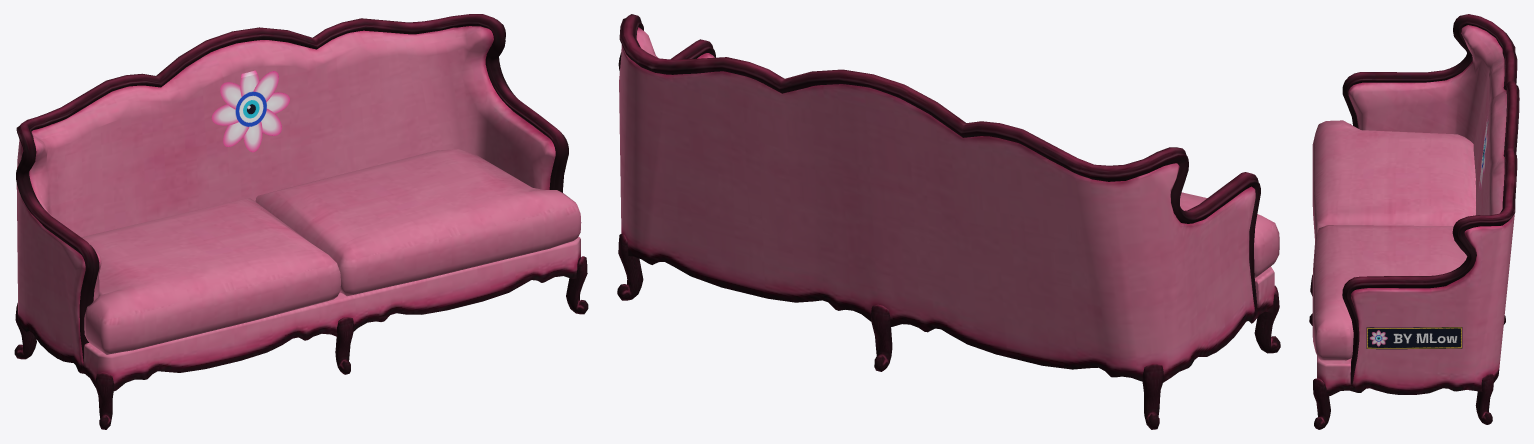
File: nyb_enchanted_sofa.glb
The picture shows the model from 3 angles, left to right: view 1: azimuth 30°, elevation 25°; view 2: azimuth 150°, elevation 25°; view 3: azimuth 270°, elevation 25°; orthographic projection. The views are drawn at different scales.
Parts seen in each view (by area): view 1: Sofa_01, stk_eyeflower.png; view 2: Sofa_01; view 3: Sofa_01, stk_label_bymlow.png, stk_eyeflower.png.
Boxes of the visible parts, x1,y1,x2,y2 form: Sofa_01: (14, 14, 588, 429); stk_eyeflower.png: (211, 70, 289, 152); Sofa_01: (617, 14, 1280, 429); Sofa_01: (1309, 14, 1519, 429); stk_label_bymlow.png: (1366, 327, 1462, 349); stk_eyeflower.png: (1479, 116, 1488, 190).
Bounding box in the file's own units: 1.57 × 0.7965 × 0.658.
Materials: 3 (3 with a texture image).
